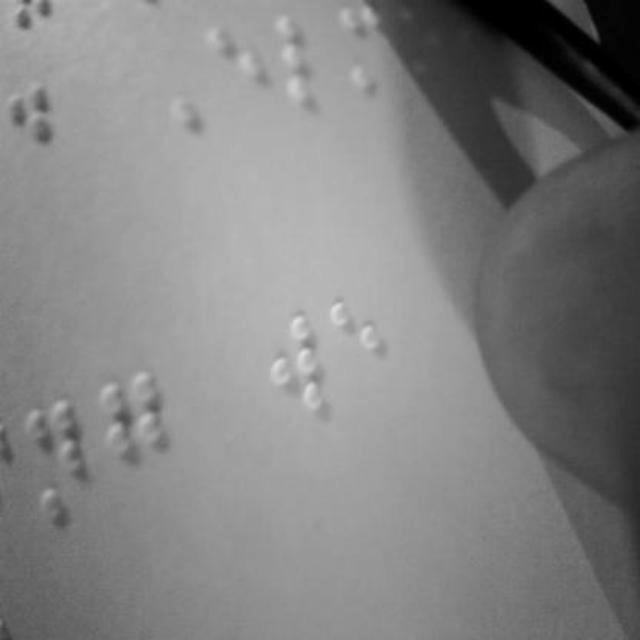braiile: (22, 379, 102, 529), (97, 368, 175, 502), (328, 288, 396, 416), (1, 75, 65, 202), (260, 310, 328, 428), (274, 13, 338, 117), (208, 20, 268, 130)
